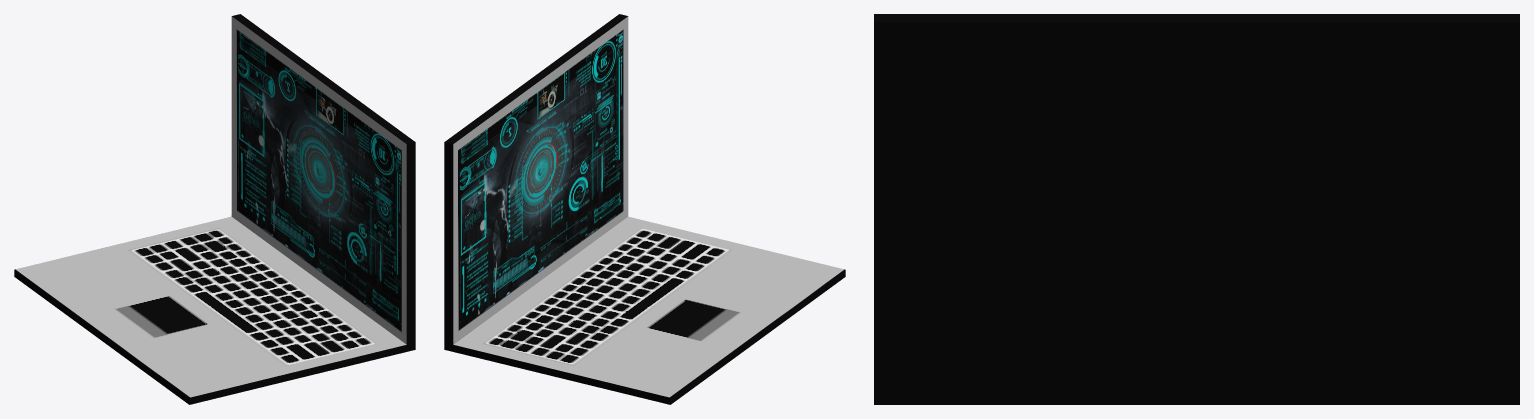
Rendered from Laptop_GenMain6.fbx.
3 renders of one model, left to right at view 1: azimuth 30°, elevation 25°; view 2: azimuth 150°, elevation 25°; view 3: azimuth 270°, elevation 25°, orthographic. The views are drawn at different scales.
Parts seen in each view (by area): view 1: Laptop; view 2: Laptop; view 3: Laptop.
Boxes of the visible parts, x1,y1,x2,y2 form: Laptop: [14, 14, 415, 404]; Laptop: [444, 14, 845, 404]; Laptop: [874, 14, 1519, 404].
Size of the model in its own units: 42.42 by 37.21 by 56.87.
